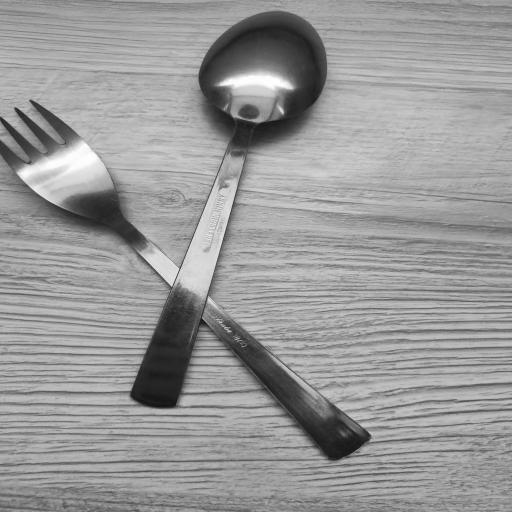fork: (0, 100, 370, 464)
spoon: (130, 12, 335, 418)
